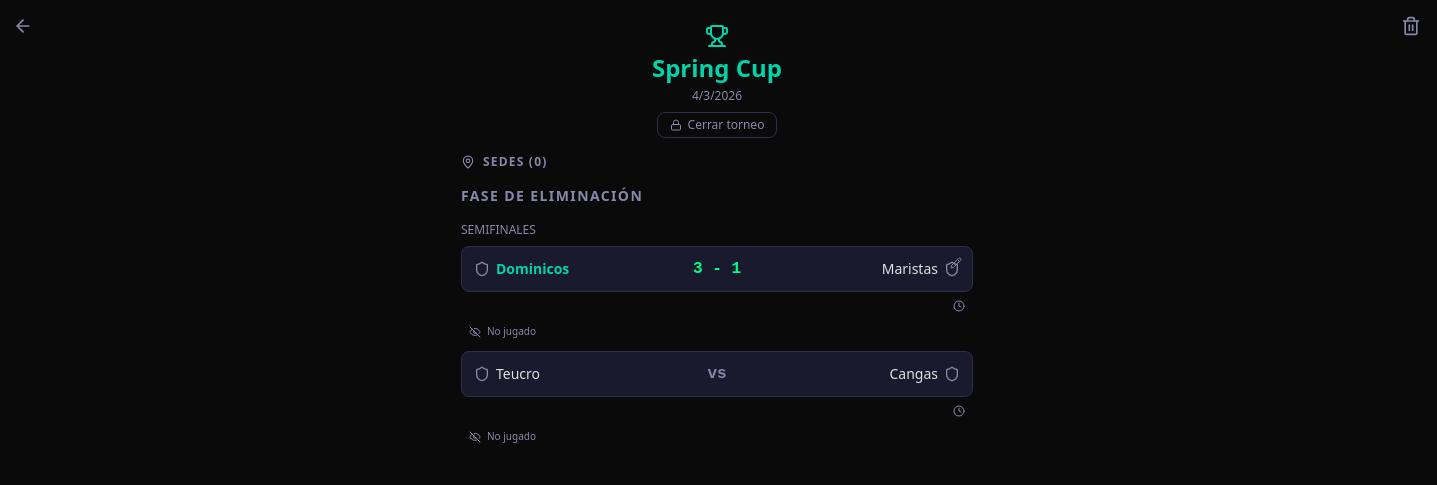
Test case: TournamentPage › knockout match edit › clicking edit on finished match opens score entry form with current scores
The width and height of the screenshot is (1437, 485).
Click the button named "Editar resultado": click(956, 263) [946,253,966,273]
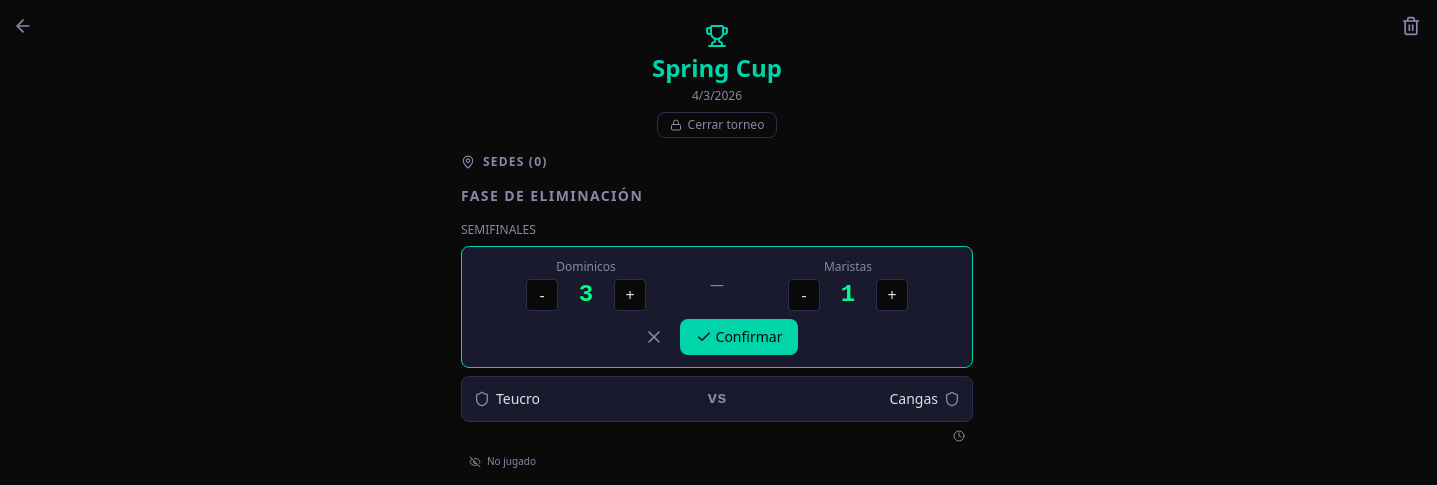
expect the button "Confirmar" is shown: met, box [680,319,798,355]
